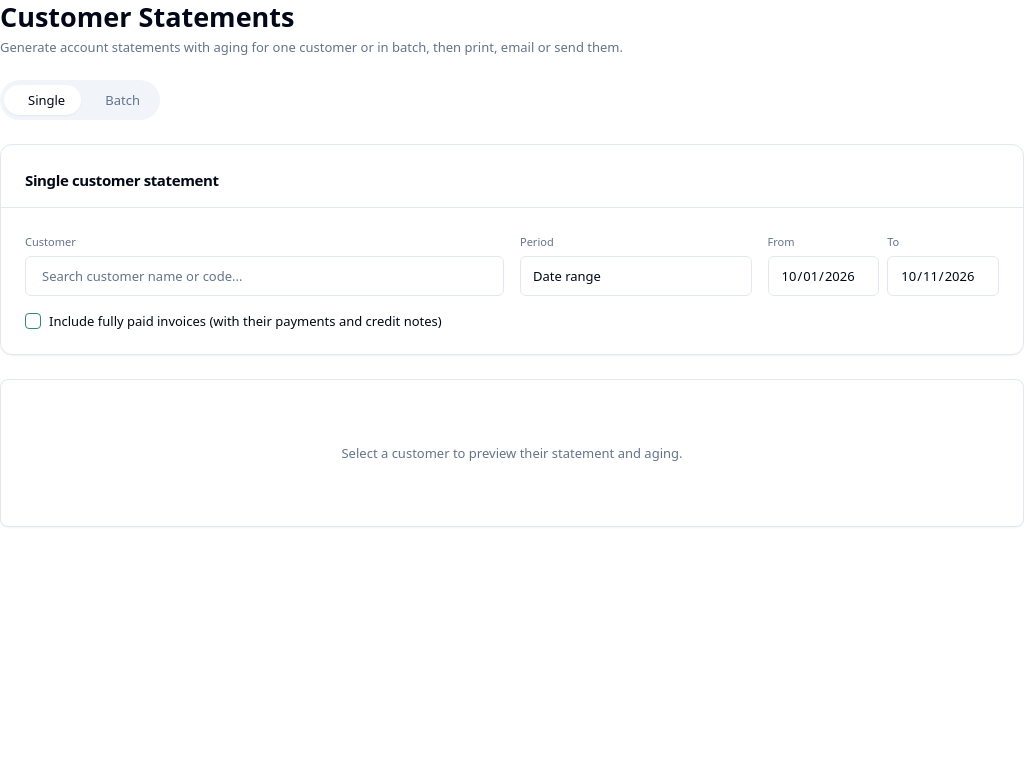
Test case: SalesStatementsPage (#607) › previews a single customer statement with aging buckets
Step 1. Click the dropdown labelled "Search customer name or code..." → [142, 276], box [25,256,504,296]
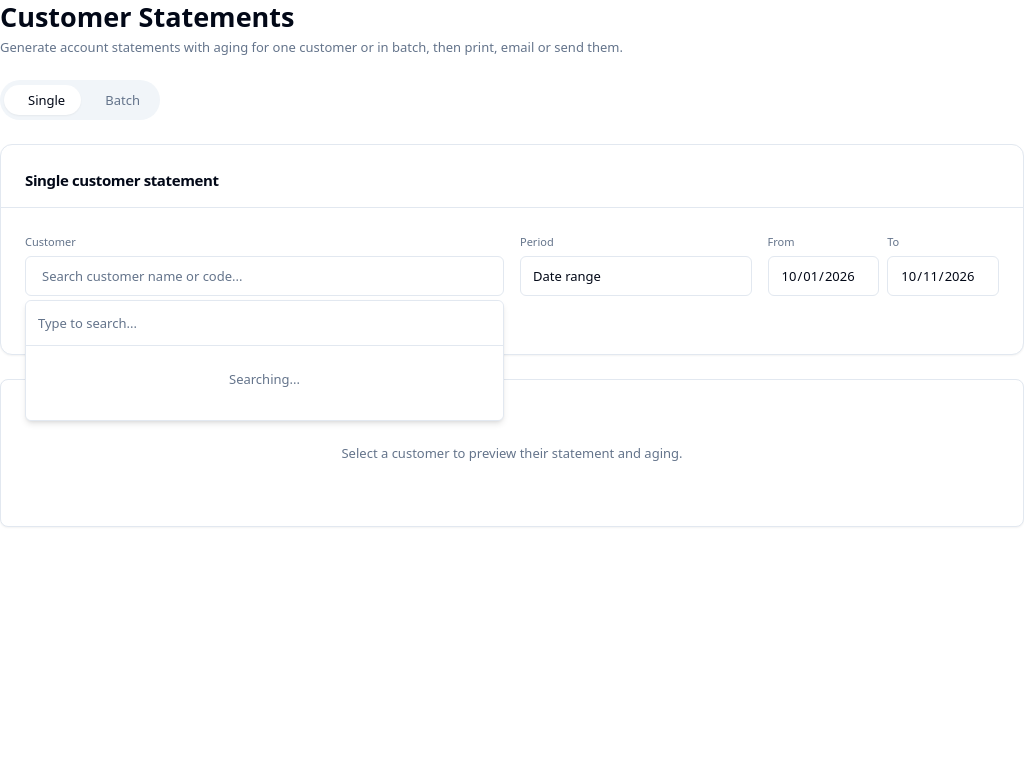
Step 2. Type "Klinik" into the dropdown with placeholder "Type to search..." → [264, 323], box [38,301,491,345]
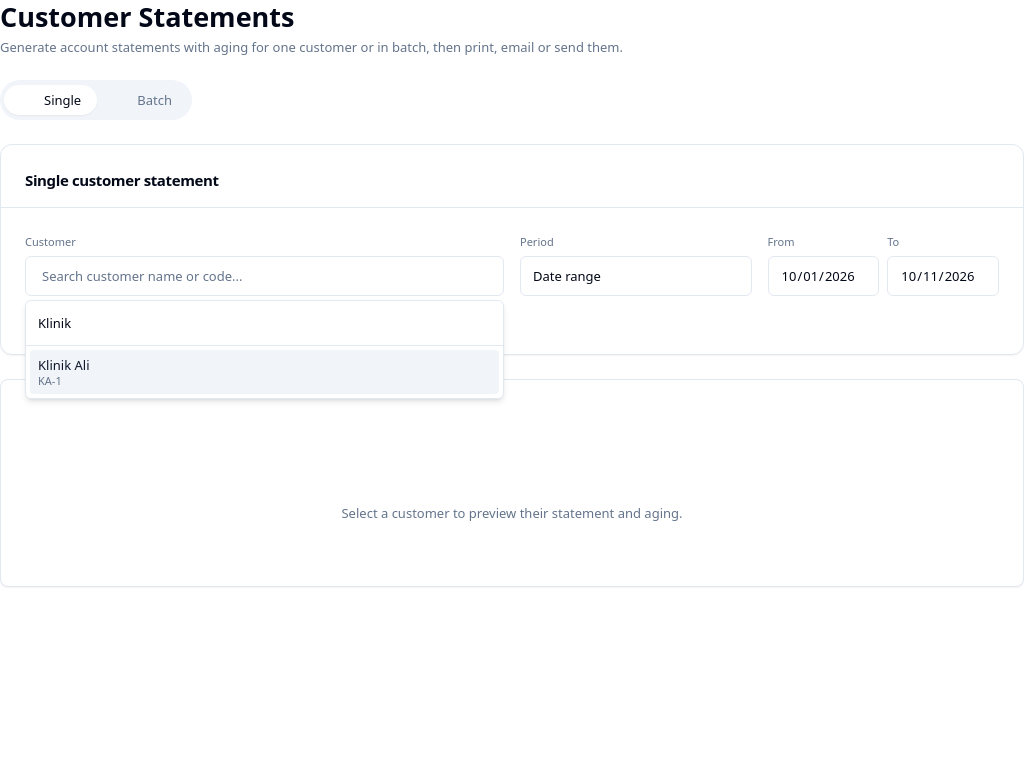
Step 3. Click the text "Klinik Ali" → [64, 365], box [38,356,90,374]
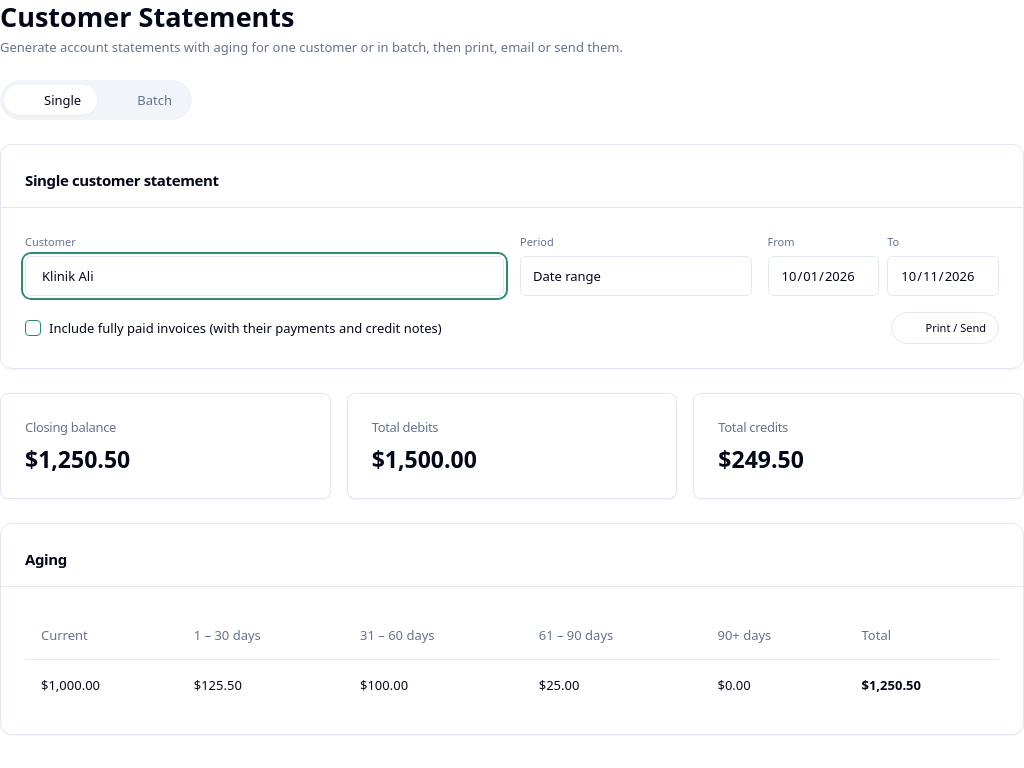
Expected: the heading "Aging" is shown, [25,549,67,569]
Now the heading "Closing balance" is shown, box [25,418,116,436]
